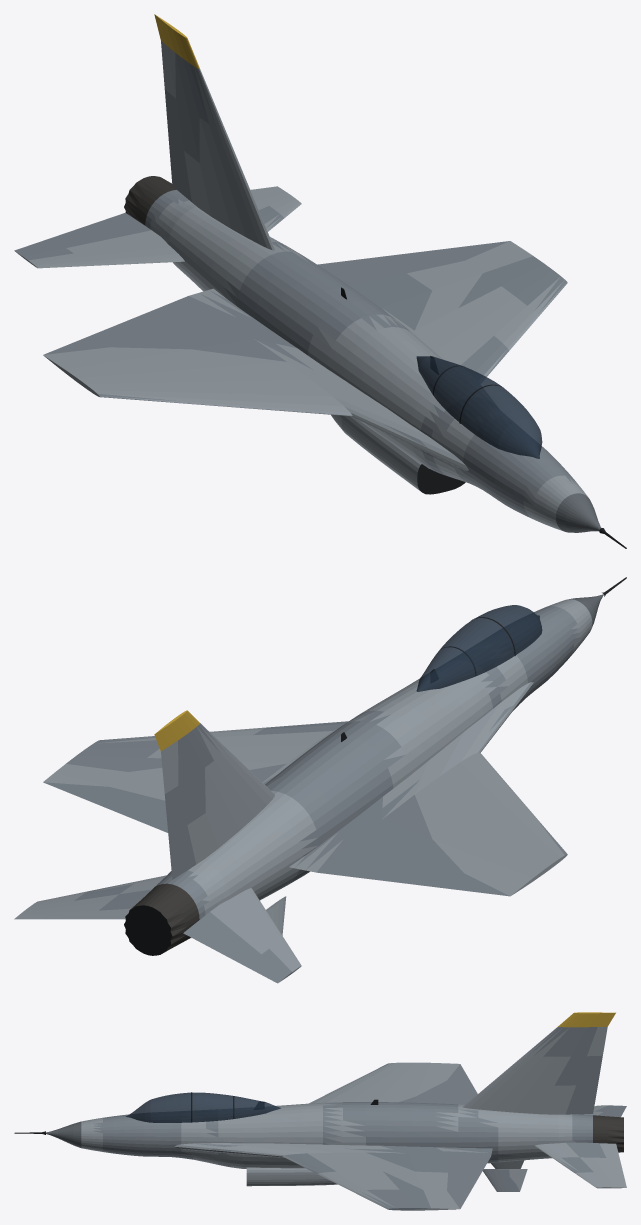
3 views of the same model, one above another, from view 1: azimuth 30°, elevation 25°; view 2: azimuth 150°, elevation 25°; view 3: azimuth 270°, elevation 25° (orthographic). The views are drawn at different scales.
Visible parts, largest first — view 1: airframe, canopy; view 2: airframe, canopy; view 3: airframe, canopy.
Boxes of the visible parts, x1,y1,x2,y2 form: airframe: (14,14,626,548); canopy: (416,356,542,458); airframe: (14,577,626,983); canopy: (416,605,542,691); airframe: (14,1012,626,1210); canopy: (125,1092,280,1122).
Bounding box in the file's own units: 8.94 × 4.86 × 15.93.
